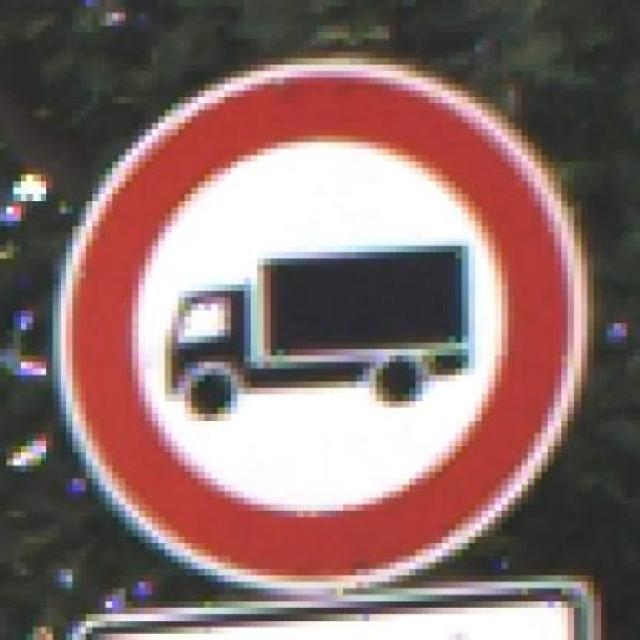Truck traffic is prohibited: (40, 39, 614, 588)
